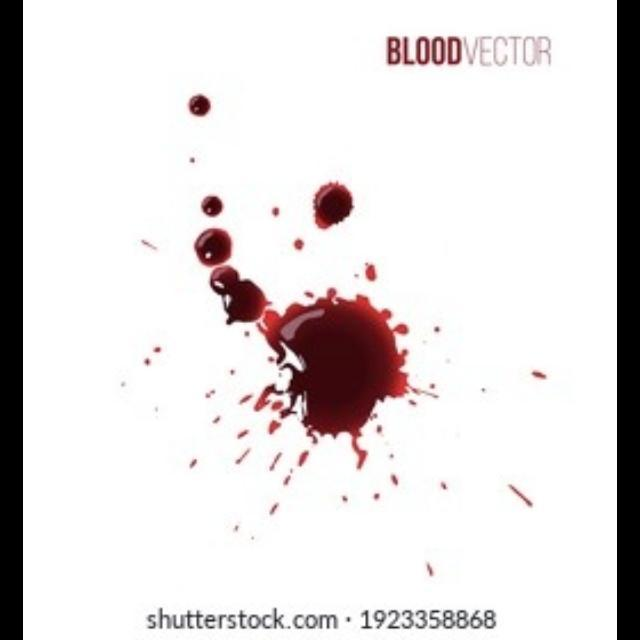blood: (252, 286, 409, 466), (208, 263, 265, 322), (313, 181, 352, 229), (192, 226, 231, 265), (185, 91, 208, 117), (199, 194, 222, 217)
